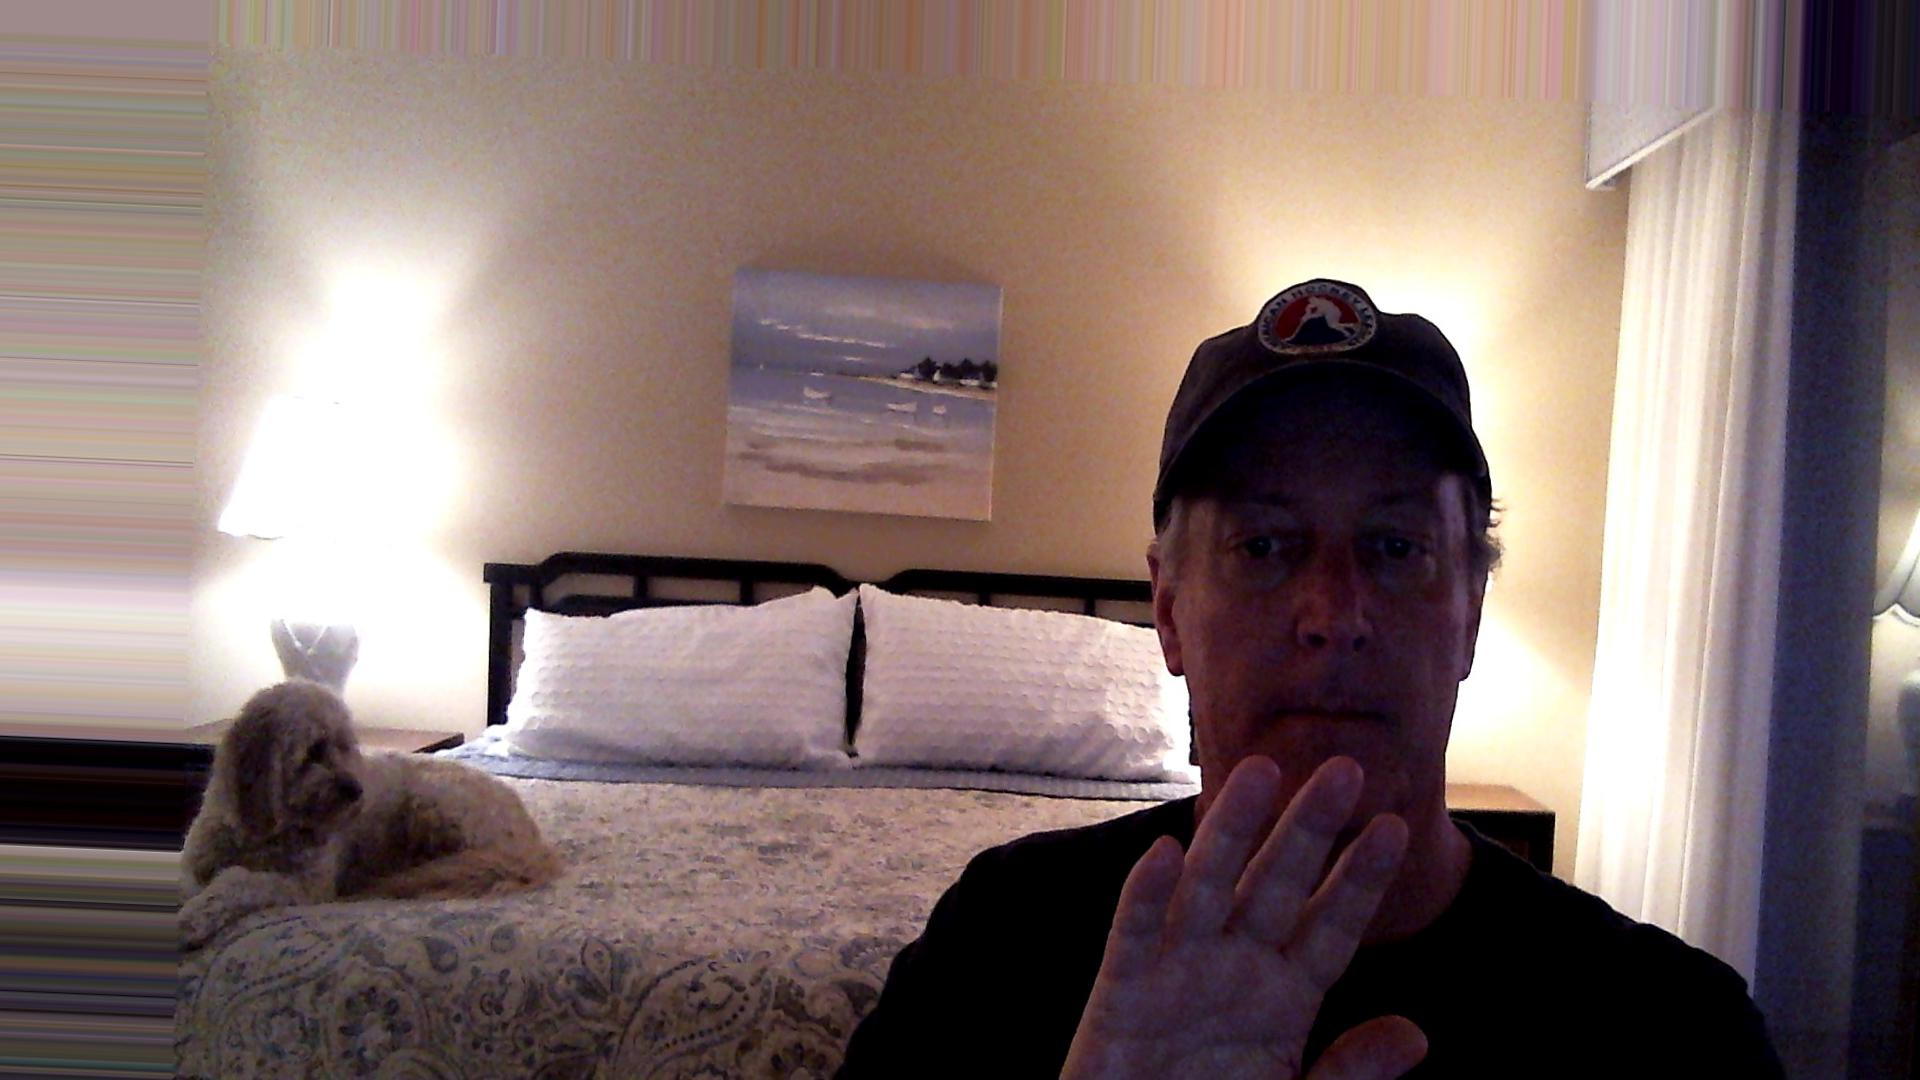Hello: (1047, 723, 1480, 1080)
